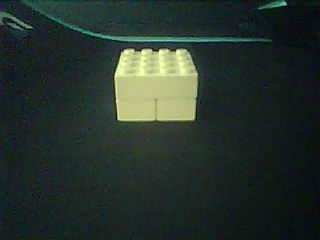lego: (115, 47, 199, 122)
